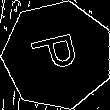P_E: (28, 32, 87, 79)
